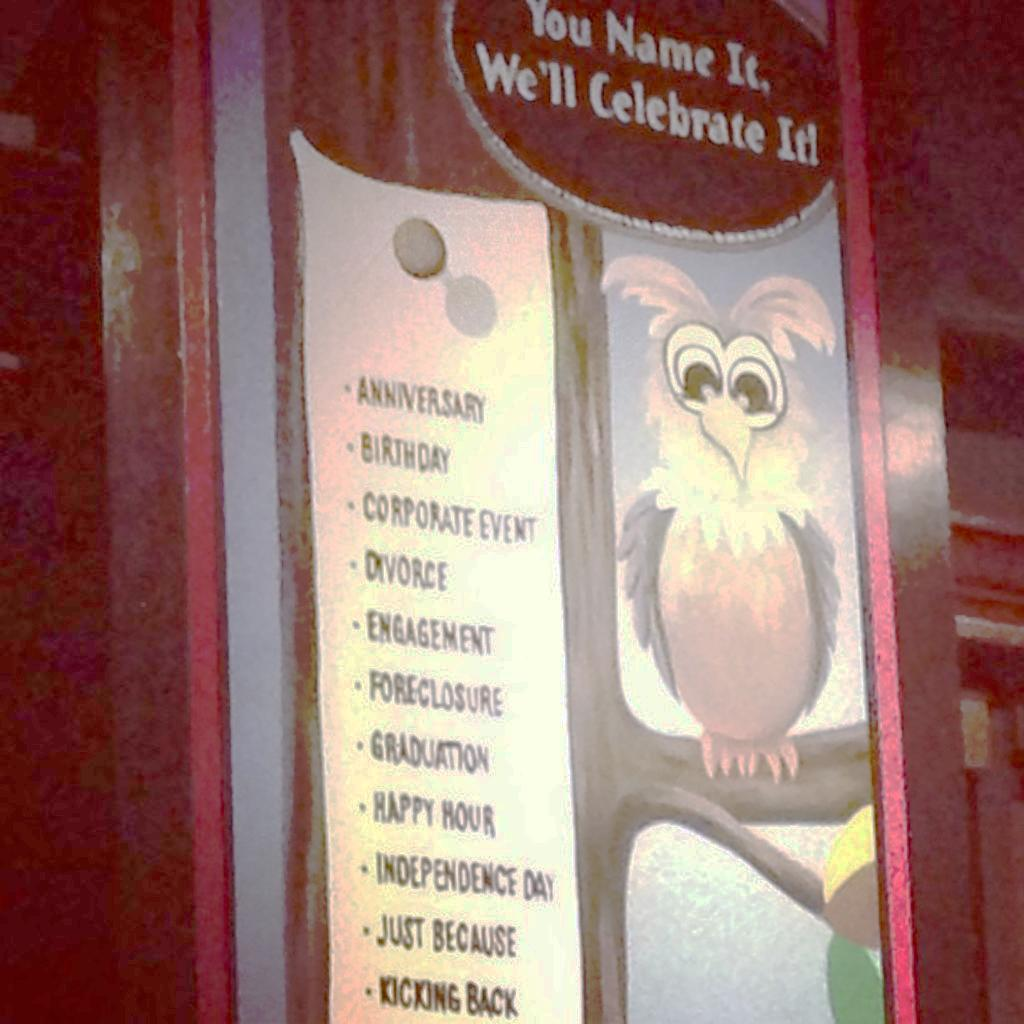Owl: (596, 244, 835, 776)
